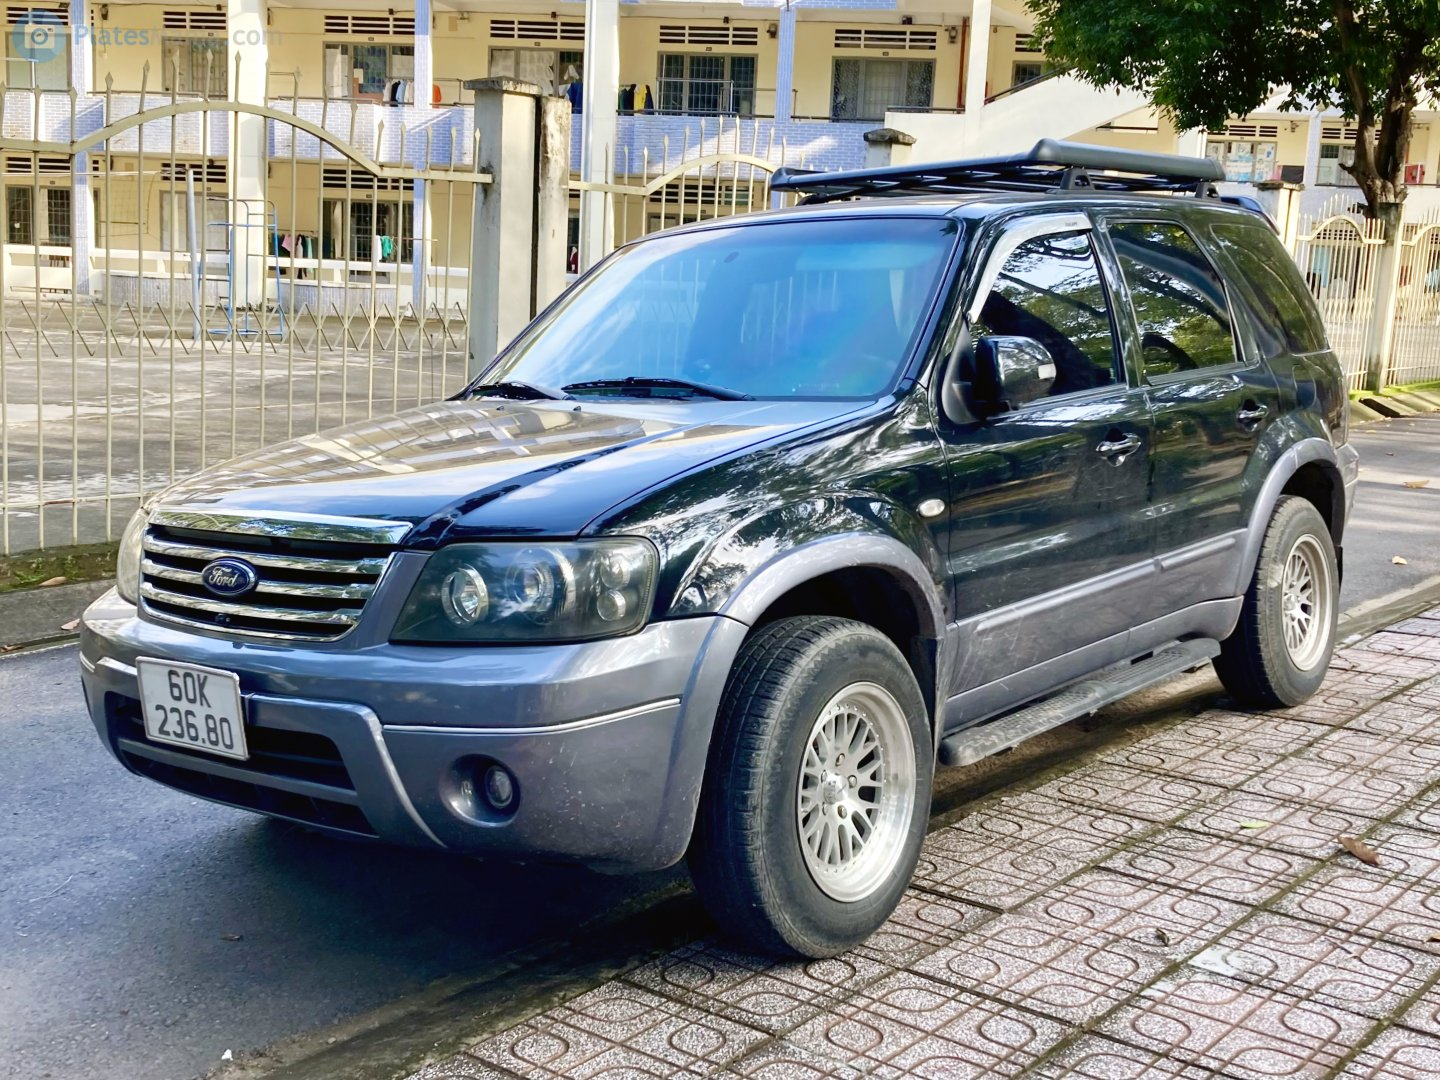bien_so: (136, 657, 249, 762)
